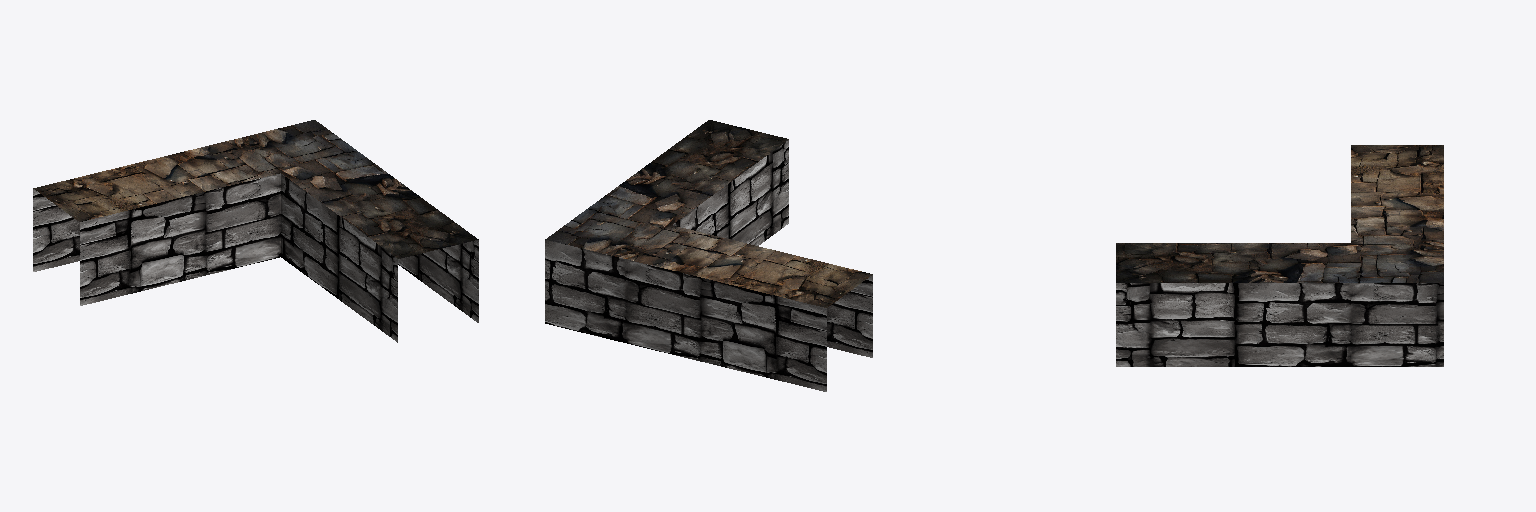
3 views of the same model, side by side, from view 1: azimuth 30°, elevation 25°; view 2: azimuth 150°, elevation 25°; view 3: azimuth 270°, elevation 25° (orthographic).
Visible parts, largest first — view 1: Stage; view 2: Stage; view 3: Stage.
Boxes of the visible parts, box(x1,y1,x2,y2) form: Stage: box(33, 120, 478, 342); Stage: box(545, 120, 872, 391); Stage: box(1116, 145, 1443, 366).
Size of the model in its own units: 1402 by 400 by 1414.
2 materials, 2 textured.